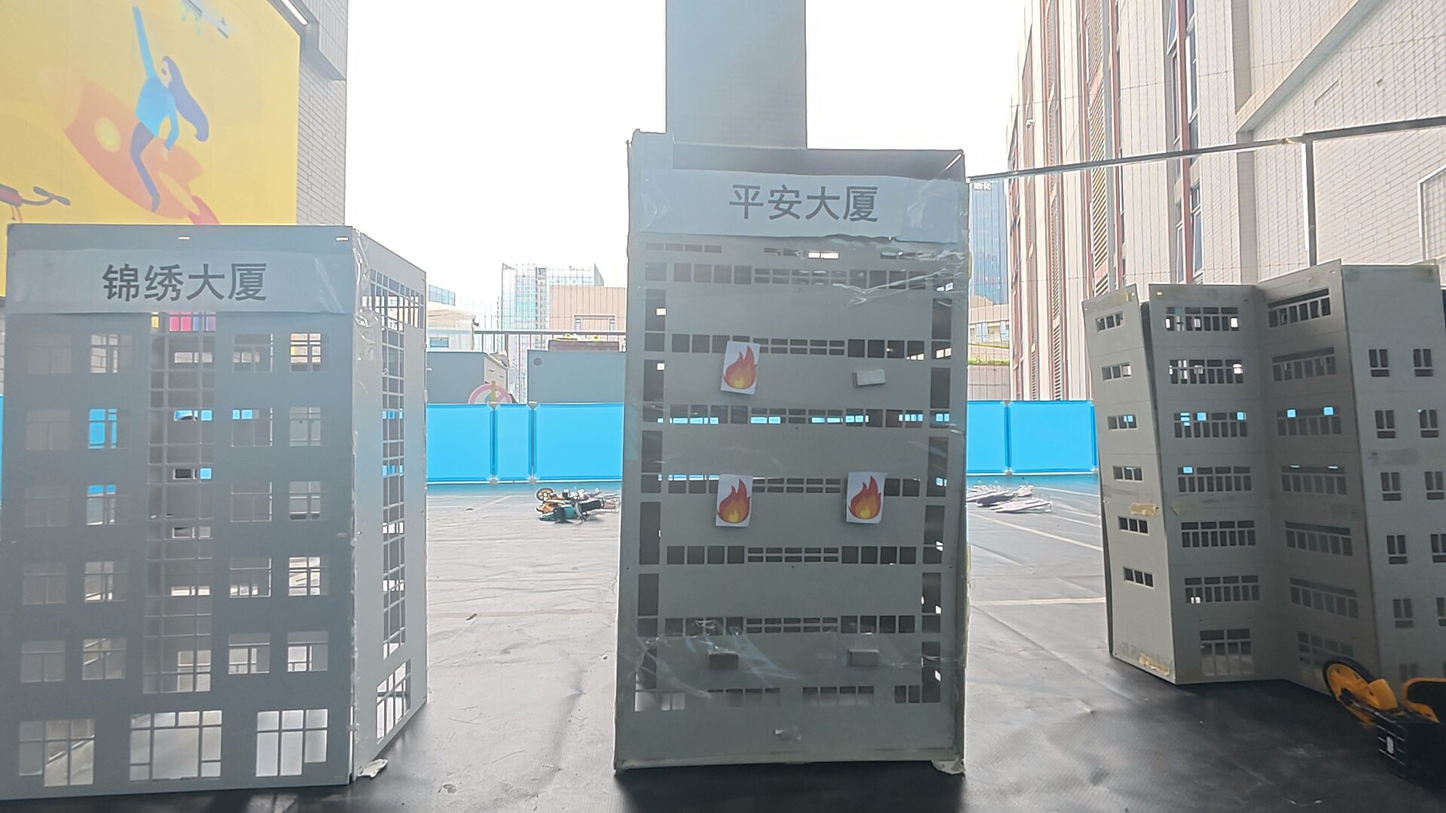fire: (721, 340, 762, 394), (846, 471, 887, 525), (715, 475, 756, 527)
